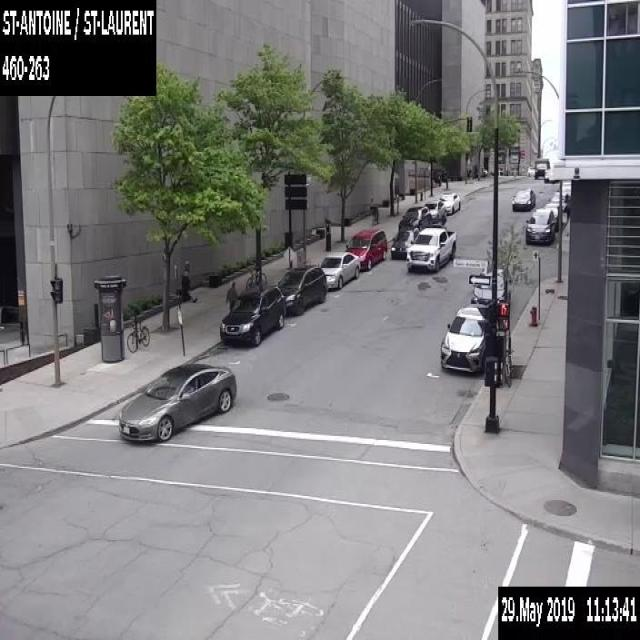pedestrian: (226, 281, 238, 307), (369, 194, 377, 223)
vehicle: (118, 361, 237, 443), (219, 284, 285, 344), (438, 304, 489, 375), (277, 265, 327, 314), (406, 226, 456, 271), (344, 228, 387, 269), (319, 250, 359, 288), (524, 207, 556, 242), (390, 226, 419, 258), (398, 205, 432, 232), (423, 199, 446, 226), (543, 202, 563, 229), (512, 188, 534, 210), (439, 191, 460, 213), (551, 192, 567, 212), (535, 157, 549, 179), (544, 168, 554, 182), (526, 165, 534, 176)
